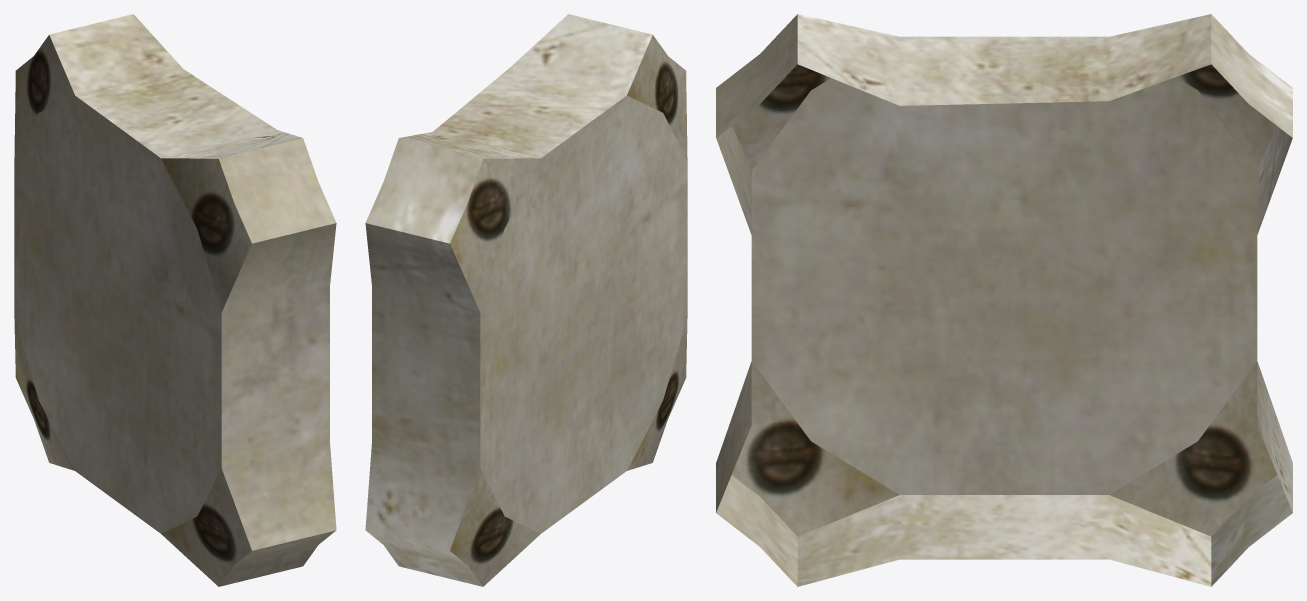
The model's file is Electric_Box.fbx.
3 renders of one model, left to right at view 1: azimuth 30°, elevation 25°; view 2: azimuth 150°, elevation 25°; view 3: azimuth 270°, elevation 25°, orthographic. The views are drawn at different scales.
Parts seen in each view (by area): view 1: Electric_Box; view 2: Electric_Box; view 3: Electric_Box.
Boxes of the visible parts, x1,y1,x2,y2 form: Electric_Box: [14, 14, 336, 586]; Electric_Box: [365, 14, 687, 586]; Electric_Box: [716, 14, 1292, 586].
Size of the model in its own units: 0.0356 by 0.1252 by 0.1252.
